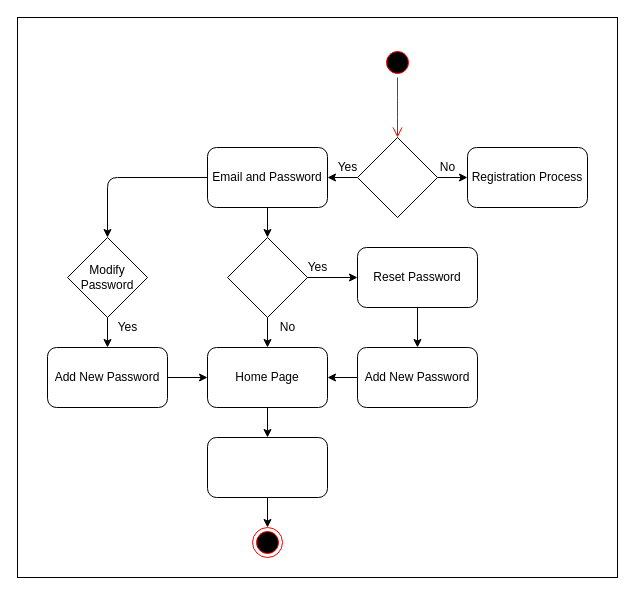
Image size: 635x595. Some labels were removed from this diagram. The shapes that lost their labels are listed below. From the top down, each one's centre as x and y in pixels, then its label:
(x=397, y=177): Already Account
(x=267, y=277): Forgot Password
(x=267, y=467): Logout
